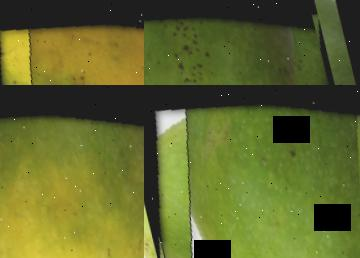PartiallyRipe: (0, 85, 144, 258)
Ripe: (0, 0, 144, 85)
Unripe: (144, 85, 360, 258), (144, 0, 348, 85)
